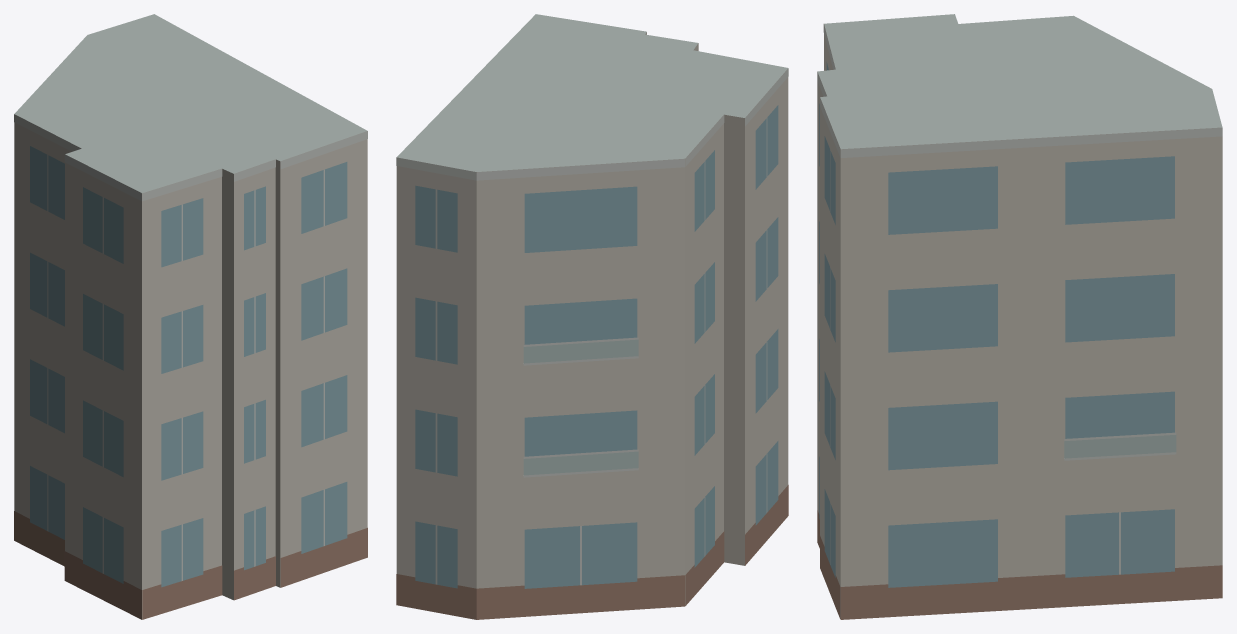
Rendered from survey-upis-32458362.glb.
3 views of the same model, side by side, from view 1: azimuth 30°, elevation 25°; view 2: azimuth 150°, elevation 25°; view 3: azimuth 270°, elevation 25° (orthographic). The views are drawn at different scales.
Parts seen in each view (by area): view 1: survey-upis-32458362.tmp; view 2: survey-upis-32458362.tmp; view 3: survey-upis-32458362.tmp.
Boxes of the visible parts, <box> form: survey-upis-32458362.tmp: <box>14,14,367,619</box>; survey-upis-32458362.tmp: <box>396,14,788,619</box>; survey-upis-32458362.tmp: <box>817,14,1222,619</box>.
Size of the model in its own units: 7.89 by 12.8 by 10.
